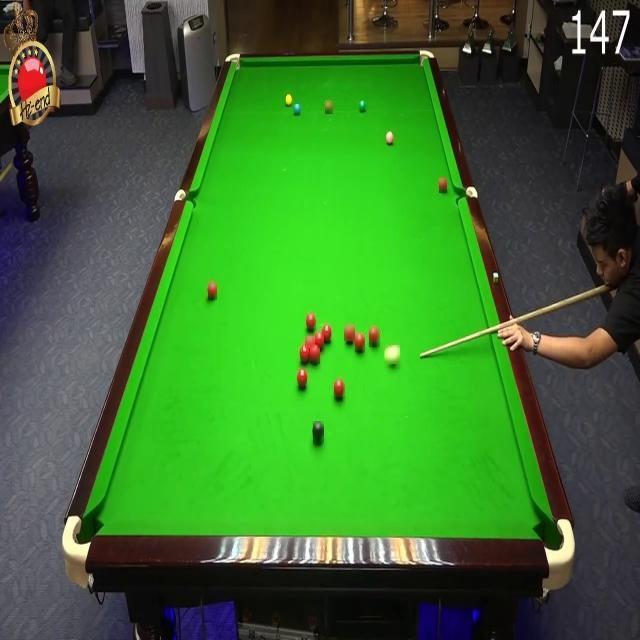Ball: (385, 345, 400, 364), (334, 376, 345, 399), (313, 421, 324, 443), (369, 326, 380, 347), (310, 345, 320, 364), (344, 324, 355, 341), (297, 369, 307, 387), (355, 334, 365, 352), (208, 281, 217, 300), (307, 312, 316, 331), (323, 325, 333, 342), (299, 345, 309, 362), (315, 331, 324, 348), (439, 178, 447, 193), (386, 130, 394, 145), (305, 336, 315, 348), (325, 100, 333, 114), (359, 100, 367, 113), (294, 104, 301, 115), (286, 94, 293, 105)
